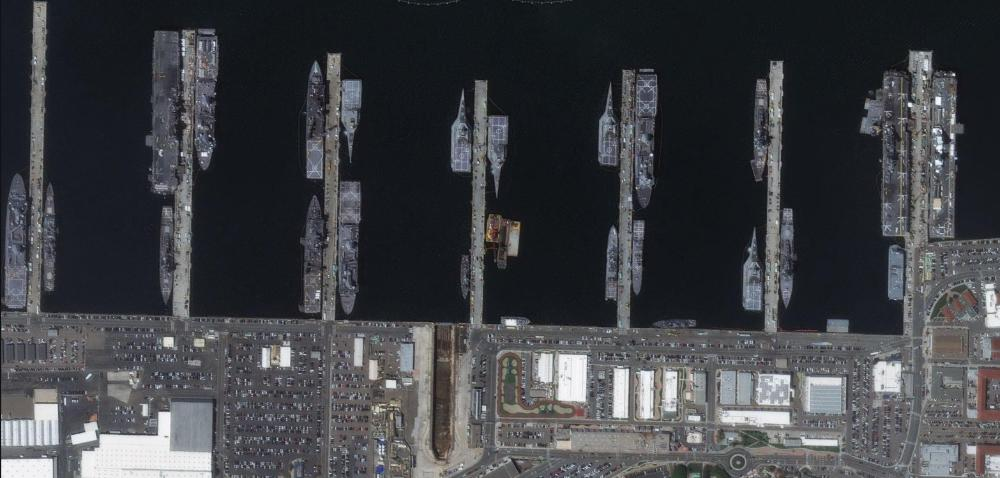amphiby: (194, 26, 224, 172), (3, 169, 33, 314), (636, 68, 658, 211), (337, 180, 358, 321), (302, 195, 326, 316), (306, 57, 327, 183)
destroyer: (41, 179, 59, 298)
fregate: (780, 204, 798, 310), (158, 207, 177, 307), (752, 78, 769, 183)
littoral combat ship: (448, 88, 477, 176), (486, 113, 513, 202), (595, 77, 620, 171), (340, 76, 365, 167), (744, 224, 767, 316)
pha: (149, 25, 186, 202), (928, 65, 964, 244), (879, 66, 914, 243)
